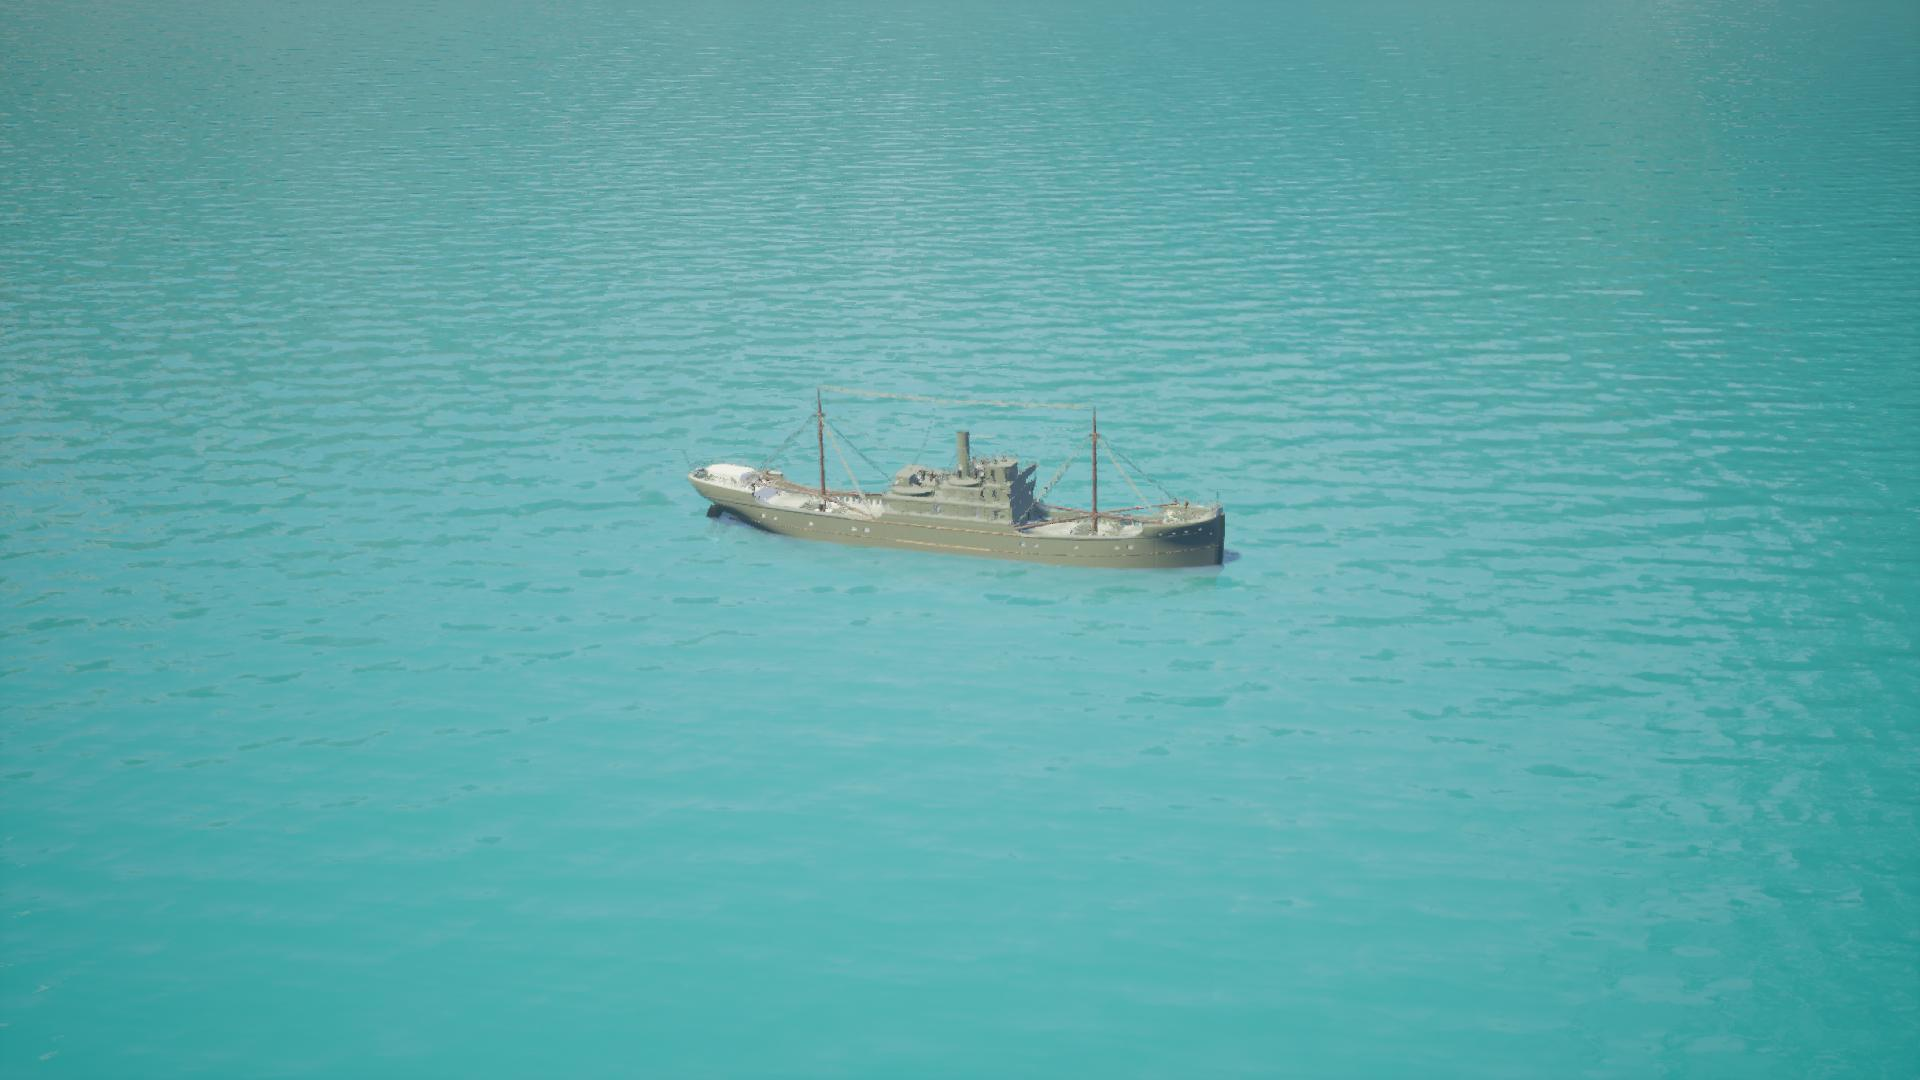Fishing Boat: (682, 384, 1228, 576)
